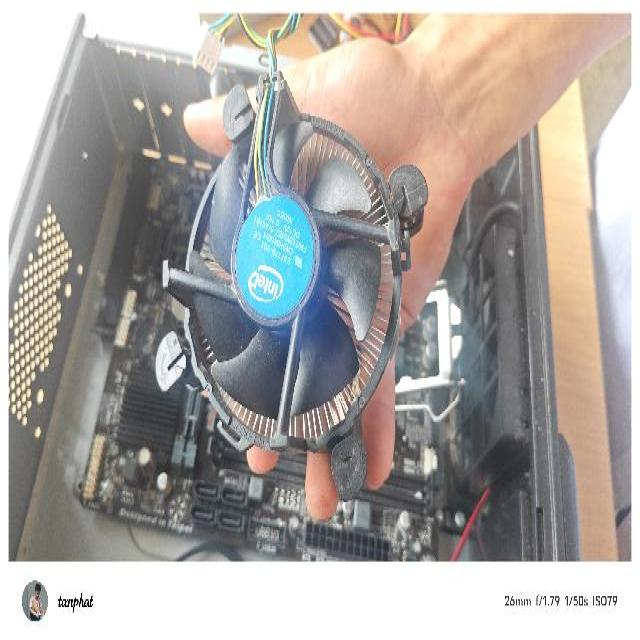CPU_Fan: (152, 64, 430, 505)
